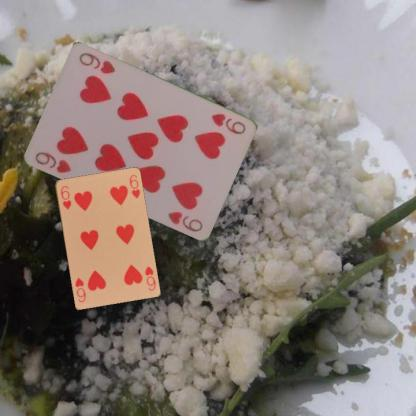6h: (142, 263, 157, 292), (58, 183, 72, 210)
9h: (32, 148, 73, 174), (209, 110, 247, 136)
